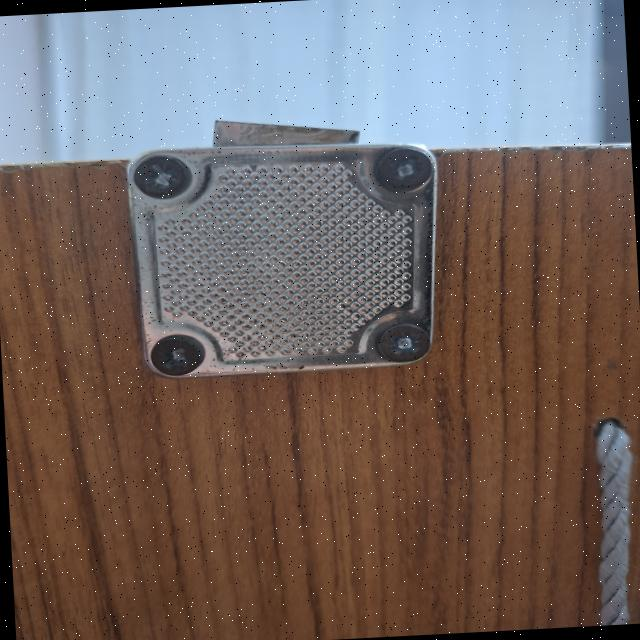Pozidriv: (146, 336, 211, 382), (130, 154, 193, 200), (382, 144, 442, 192), (375, 321, 432, 365)
